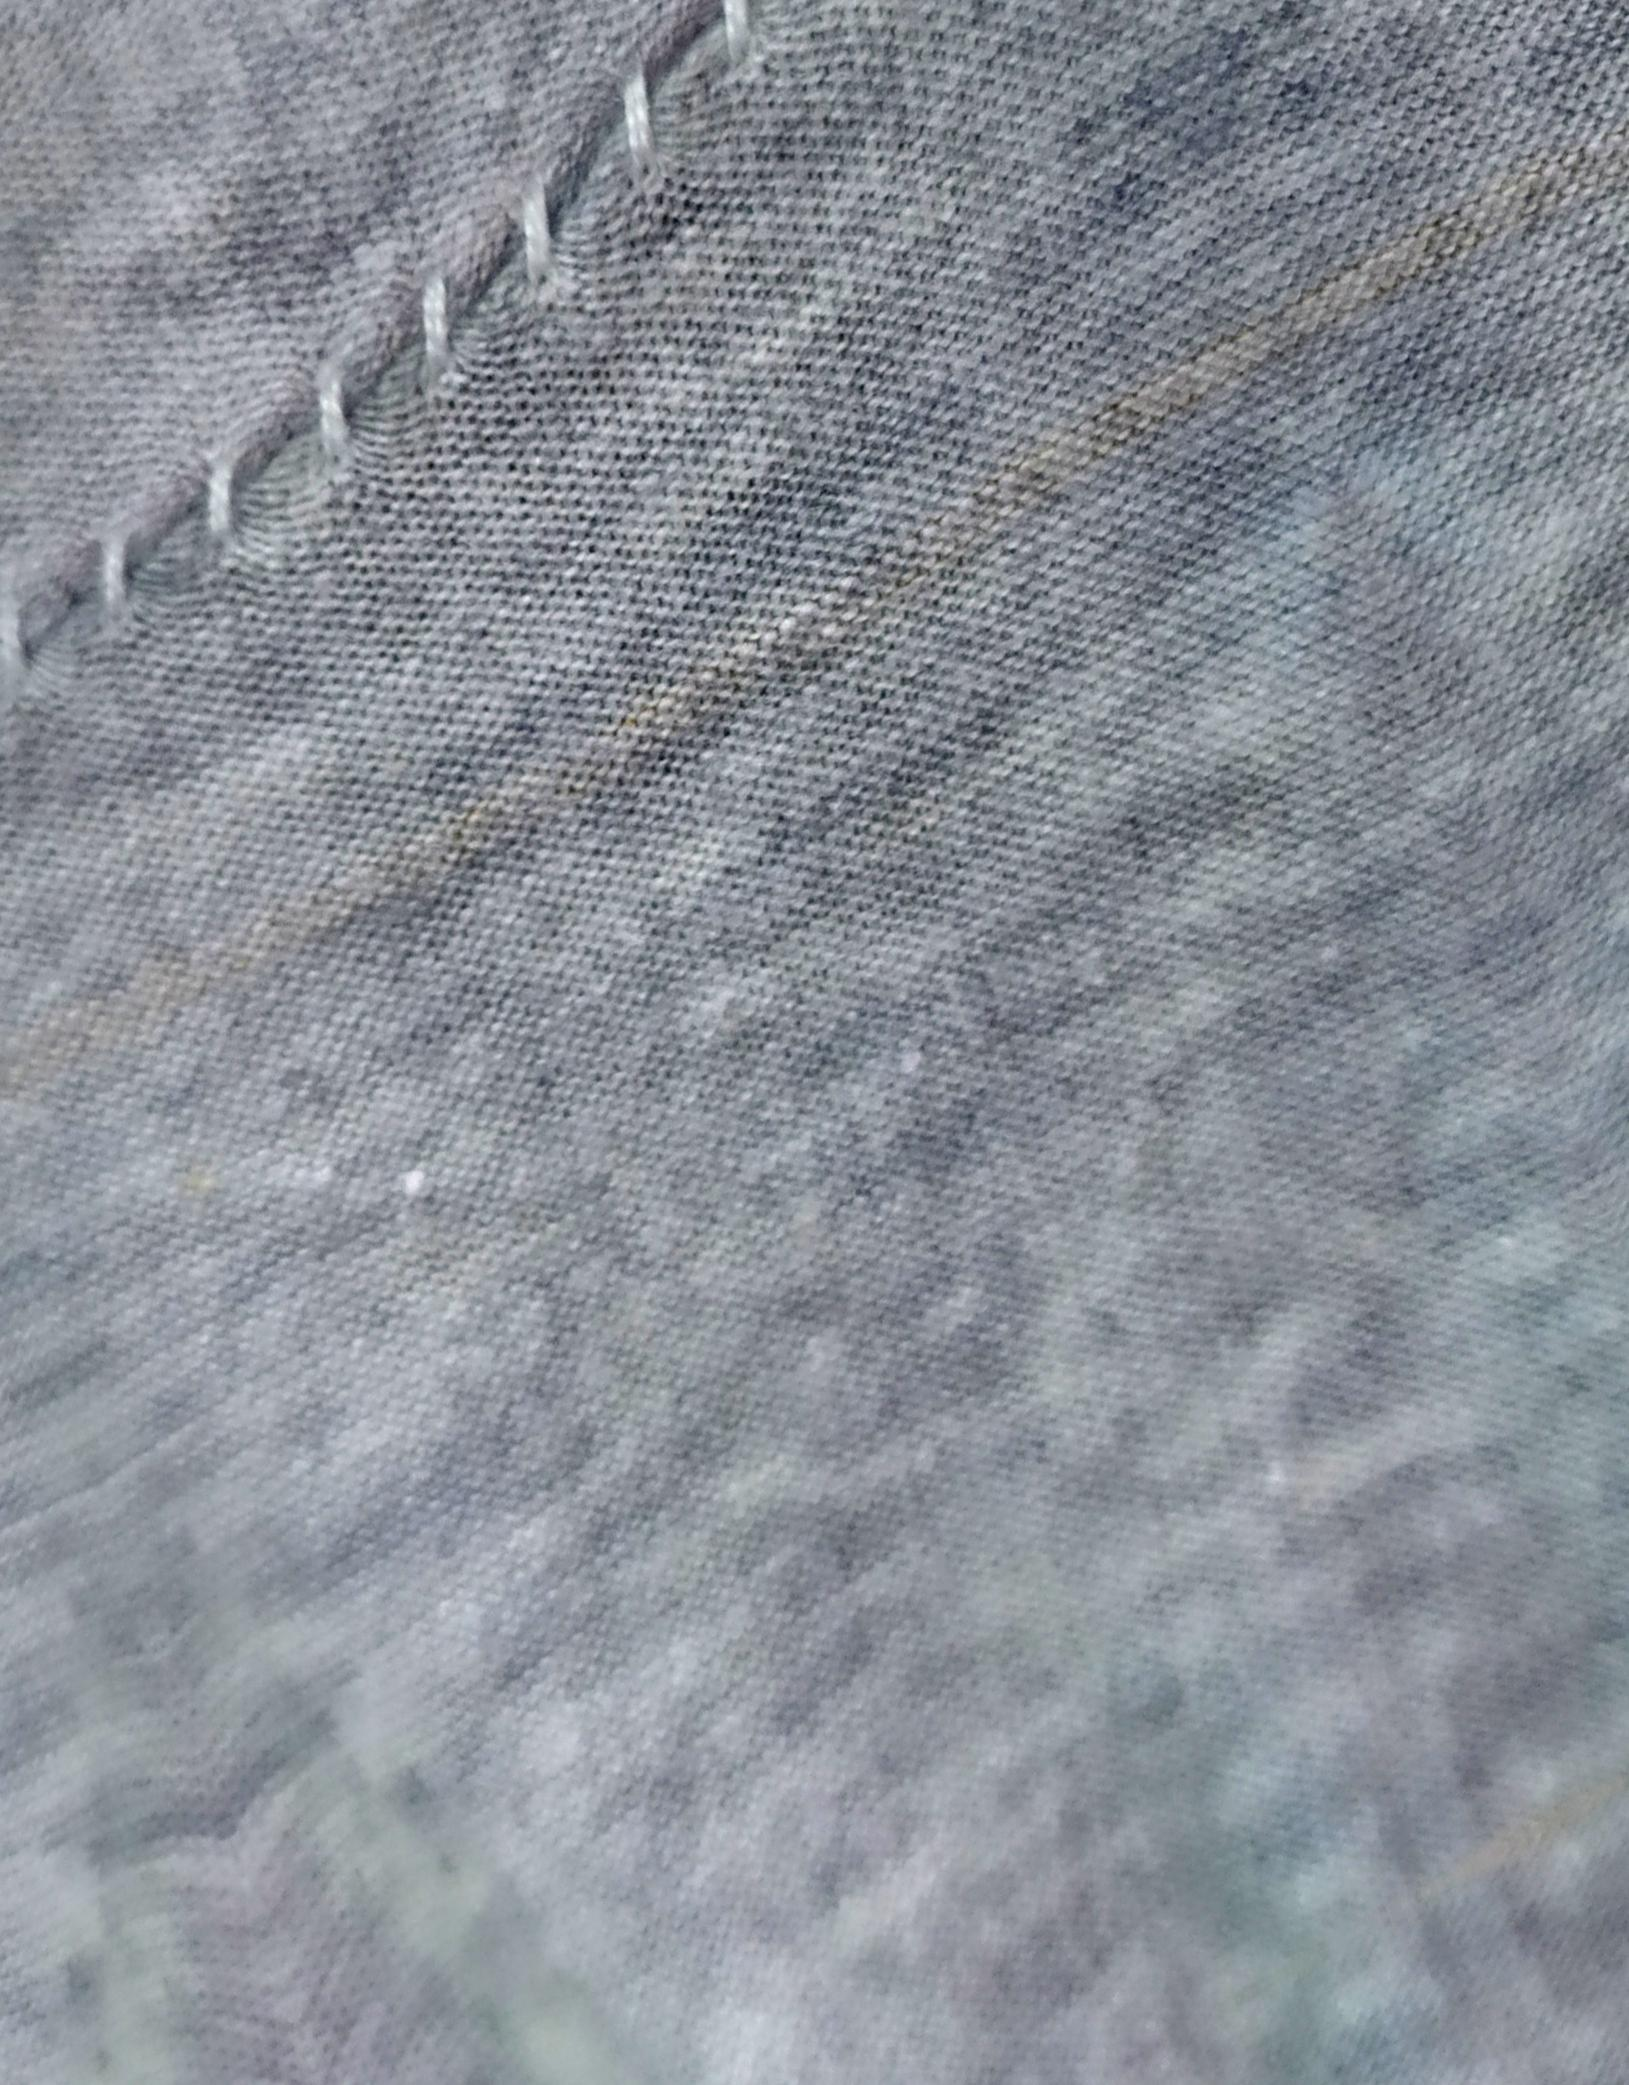slub: (8, 5, 785, 682)
